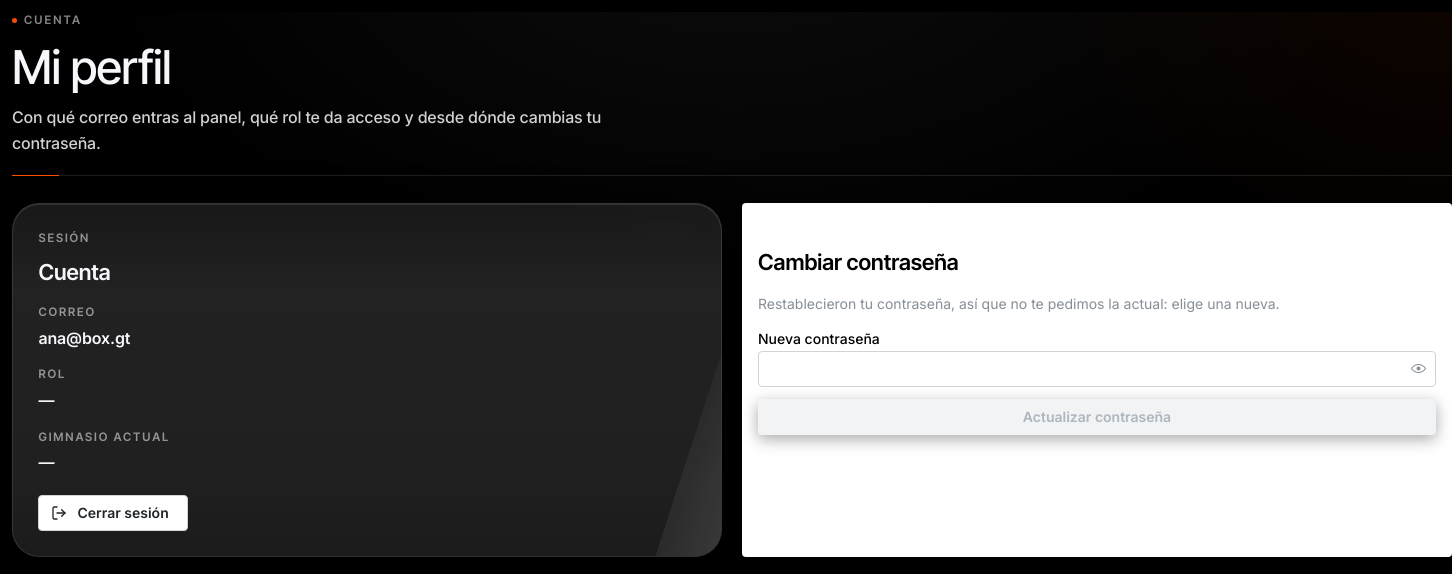
it: Mi perfil · cambio de contraseña tras un restablecimiento › con must_change_password, si el backend rechaza la nueva dice por qué, no «verifica la actual»
Type "12345678" into the password field labelled "Nueva contraseña" at x=1097, y=369, box [759,352,1435,386]
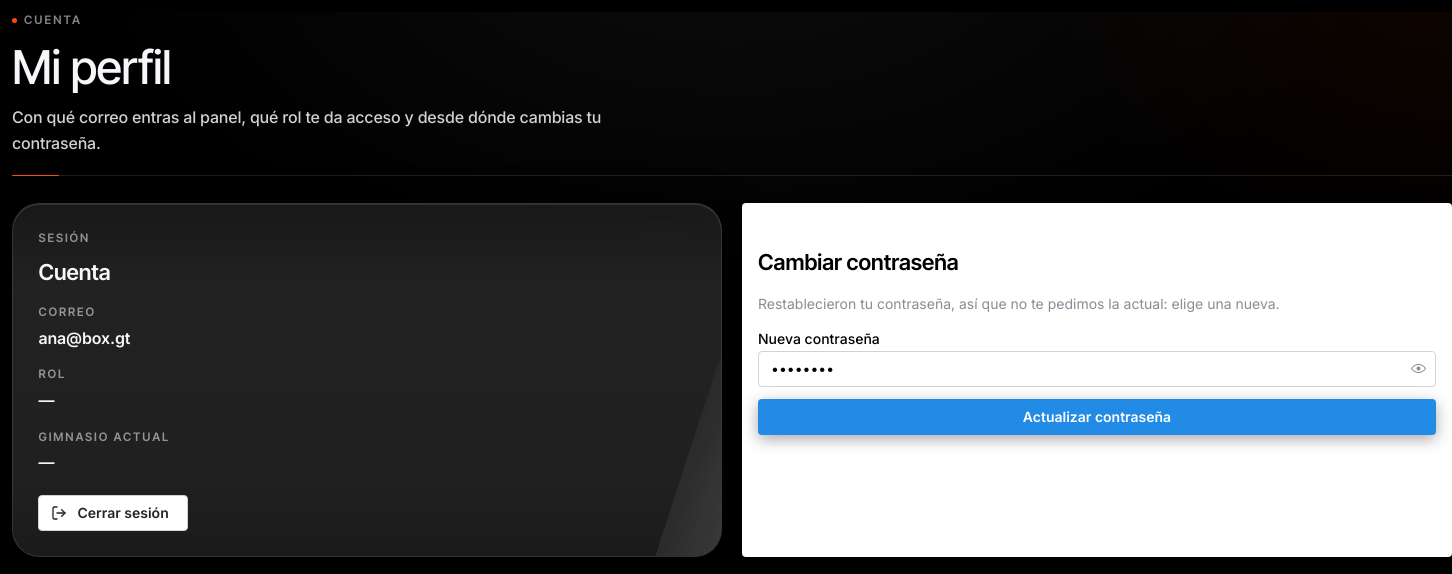
Click the button "Actualizar contraseña" at x=1097, y=417, box [758,399,1436,435]
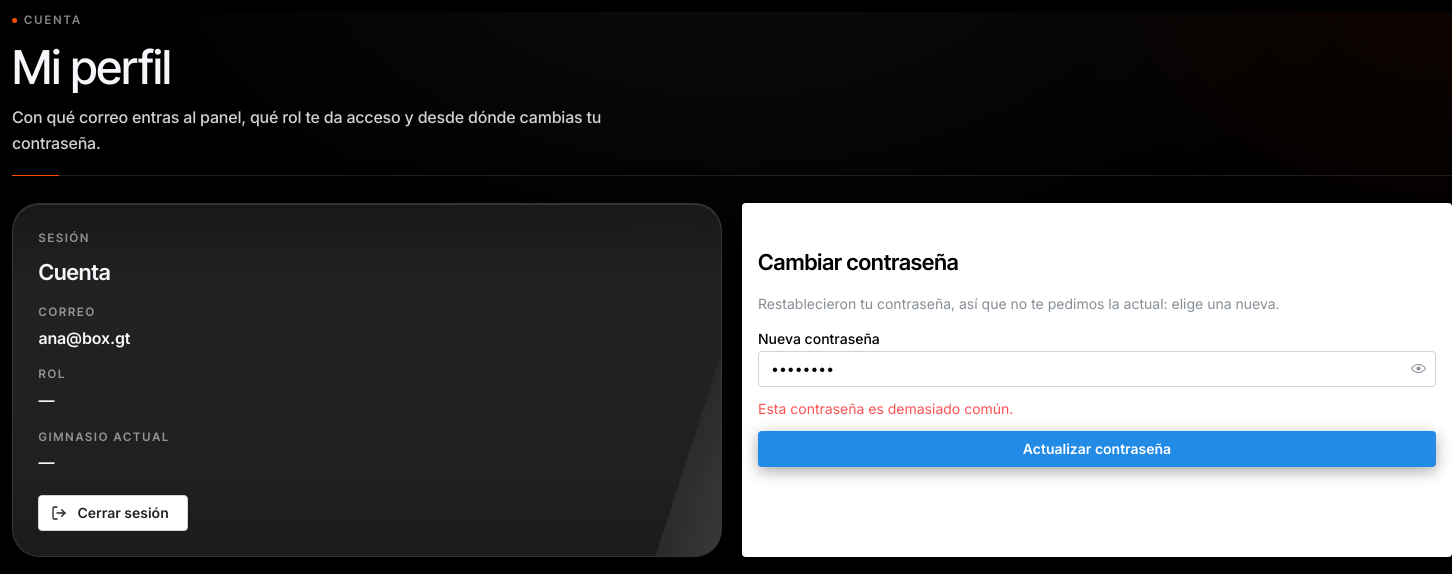
Now the text "Esta contraseña es demasiado común." is shown, box [758,400,1013,417]
